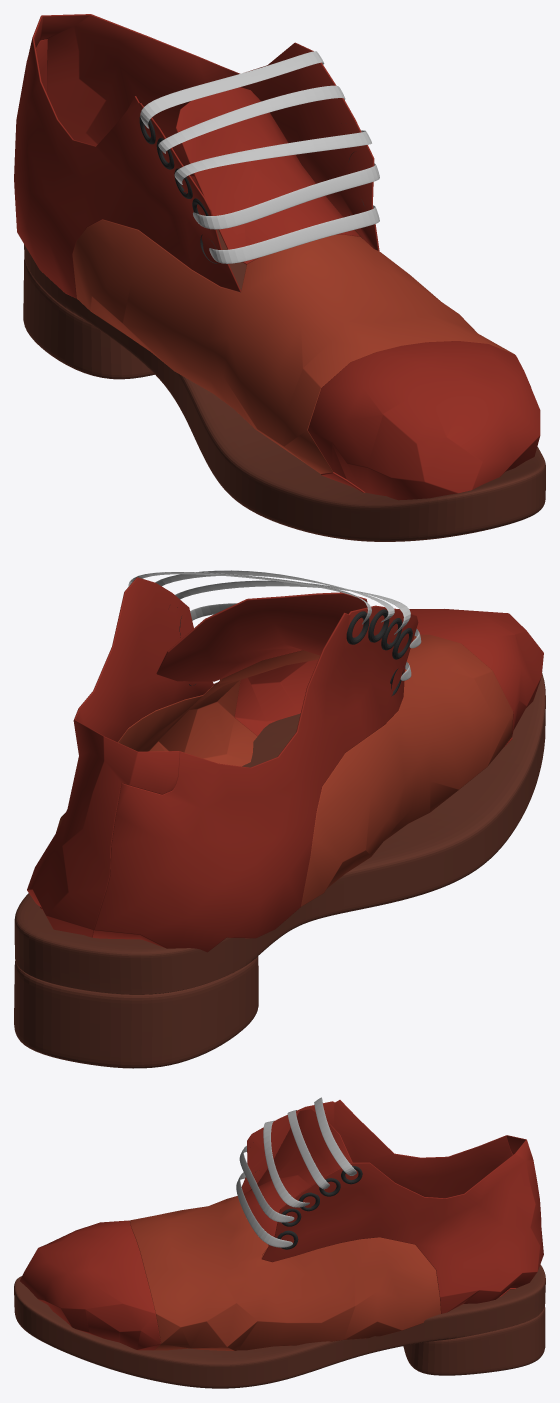
Rendered from za1ot2izquierda.fbx.
3 renders of one model, top to bottom at view 1: azimuth 30°, elevation 25°; view 2: azimuth 150°, elevation 25°; view 3: azimuth 270°, elevation 25°, orthographic. The views are drawn at different scales.
Parts seen in each view (by area): view 1: ZAPATO1_3, Plane, Plane.002, Plane.004, Plane.005, Plane.001, Plane.003; view 2: ZAPATO1_3, Plane, Plane.001, Plane.003, Plane.004; view 3: ZAPATO1_3, Plane, Plane.001, Plane.004, Plane.003, Plane.005, Plane.002.
Boxes of the visible parts, x1,y1,x2,y2 form: ZAPATO1_3: (14,14,540,500); Plane: (23,229,545,541); Plane.002: (193,163,379,229); Plane.004: (140,51,324,128); Plane.005: (209,205,379,263); Plane.001: (174,130,371,184); Plane.003: (158,85,345,153); ZAPATO1_3: (27,577,543,952); Plane: (14,673,545,1068); Plane.001: (175,580,410,634); Plane.003: (155,570,394,622); Plane.004: (128,572,371,624); ZAPATO1_3: (20,1100,543,1350); Plane: (14,1264,545,1388); Plane.001: (263,1120,309,1207); Plane.004: (314,1097,356,1175); Plane.003: (287,1110,329,1189); Plane.005: (236,1172,292,1247); Plane.002: (239,1145,294,1222).
Bounding box in the file's own units: 174 × 204 × 447.
